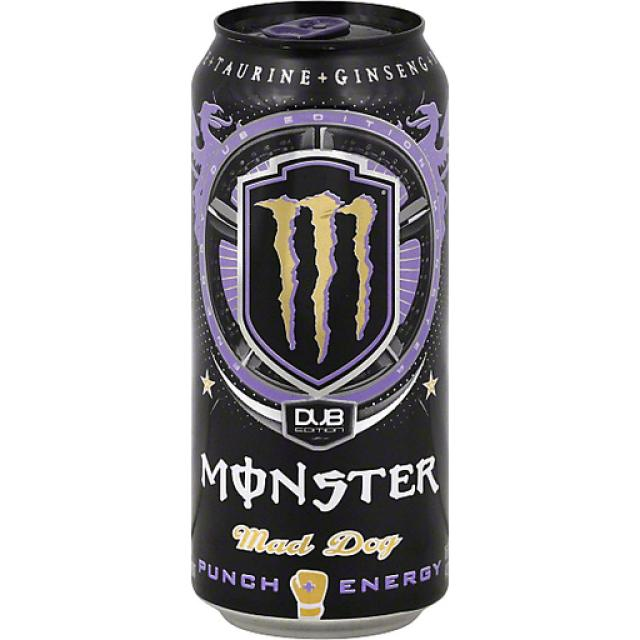Cans: (188, 0, 453, 640)
